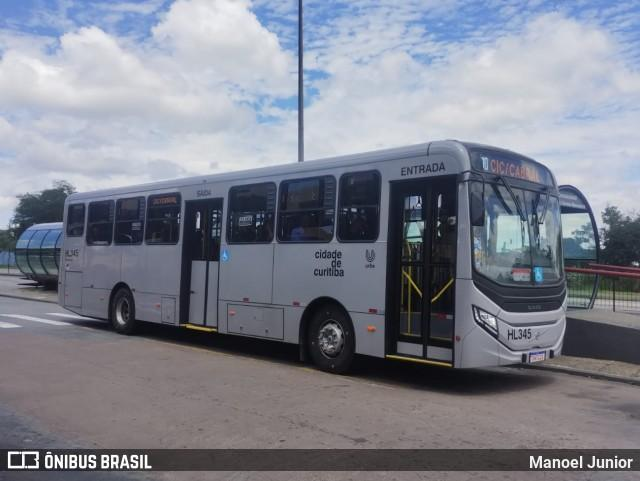CIC CABRAL: (488, 155, 543, 184)
